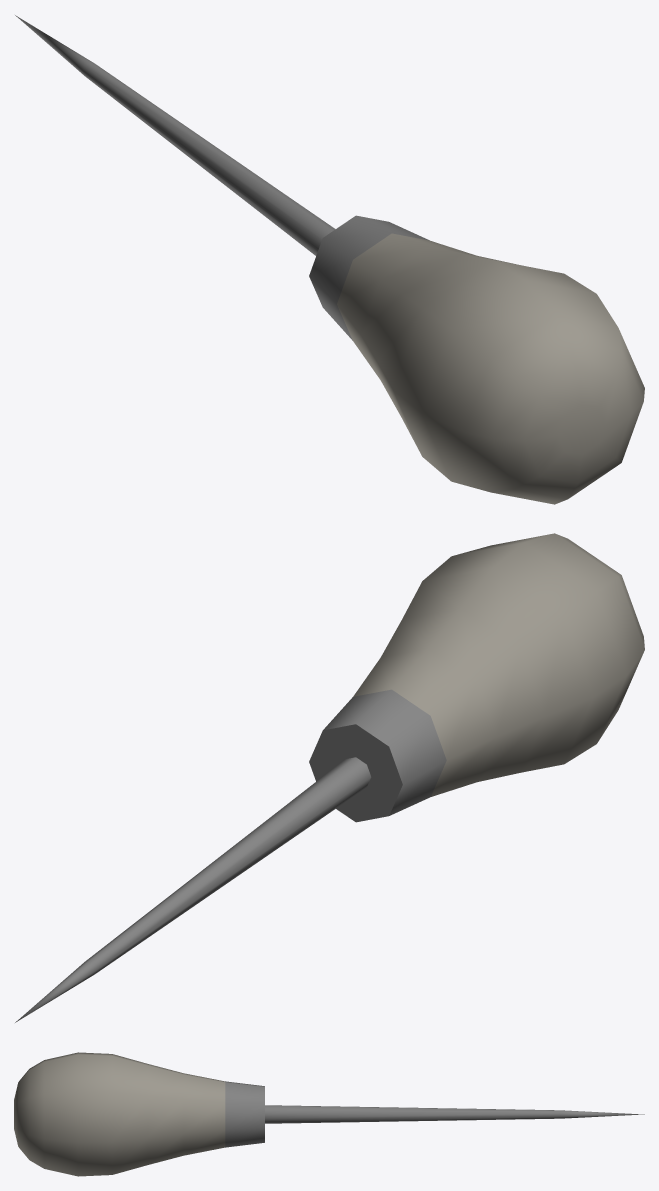
The model's file is tool-2.fbx.
3 views of the same model, one above another, from view 1: azimuth 30°, elevation 25°; view 2: azimuth 150°, elevation 25°; view 3: azimuth 270°, elevation 25° (orthographic). The views are drawn at different scales.
Visible parts, largest first — view 1: tool-2; view 2: tool-2; view 3: tool-2.
Boxes of the visible parts, <box> form: tool-2: <box>15,15,644,504</box>; tool-2: <box>15,533,644,1022</box>; tool-2: <box>14,1052,644,1176</box>.
Size of the model in its own units: 4.23 by 4.23 by 20.24.
2 materials, 2 textured.
